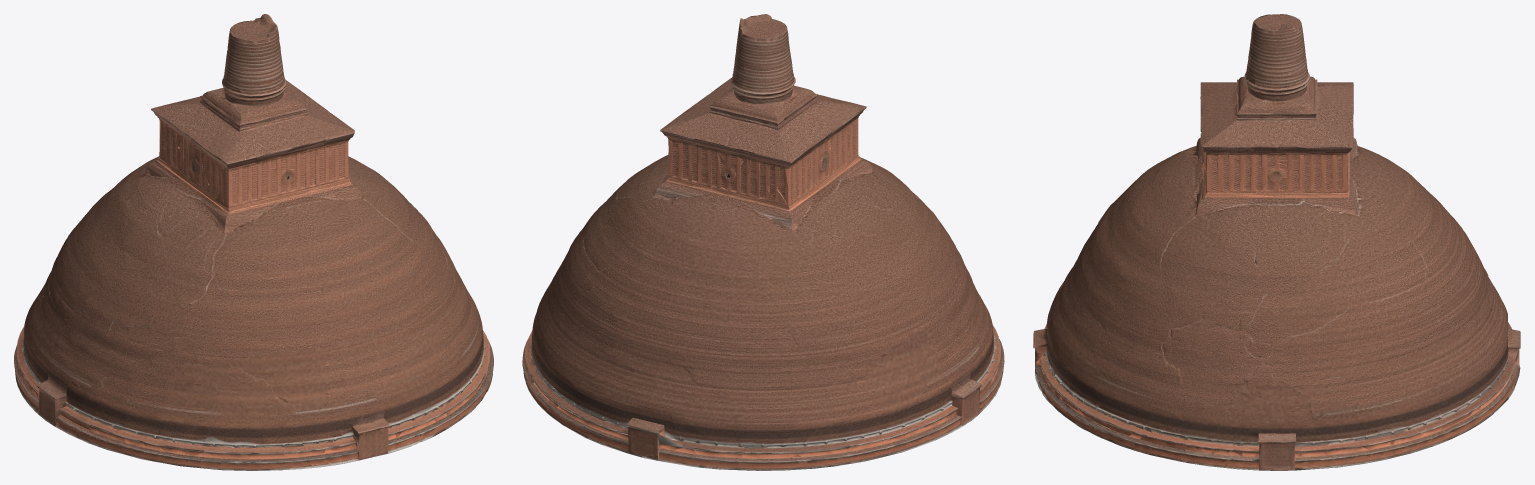
File: Jethawanaramaya.glb
3 renders of one model, left to right at view 1: azimuth 30°, elevation 25°; view 2: azimuth 150°, elevation 25°; view 3: azimuth 270°, elevation 25°, orthographic.
Parts seen in each view (by area): view 1: Mesh_0; view 2: Mesh_0; view 3: Mesh_0.
Boxes of the visible parts, x1,y1,x2,y2 form: Mesh_0: (14,14,493,470); Mesh_0: (522,14,1004,470); Mesh_0: (1033,14,1520,470).
Bounding box in the file's own units: 1.9 × 1.52 × 1.9.
Materials: 1 (1 with a texture image).
